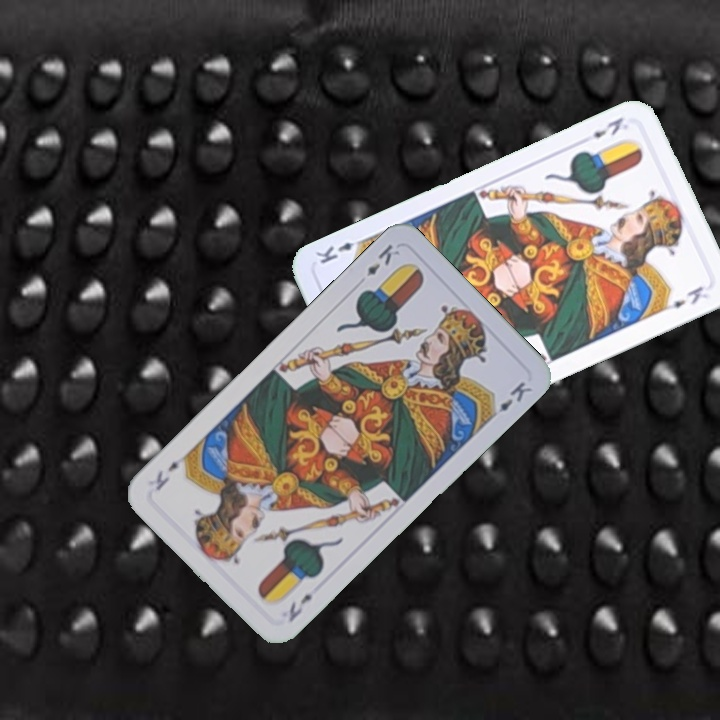EK: (363, 239, 403, 279), (284, 589, 316, 625), (588, 113, 626, 141)
